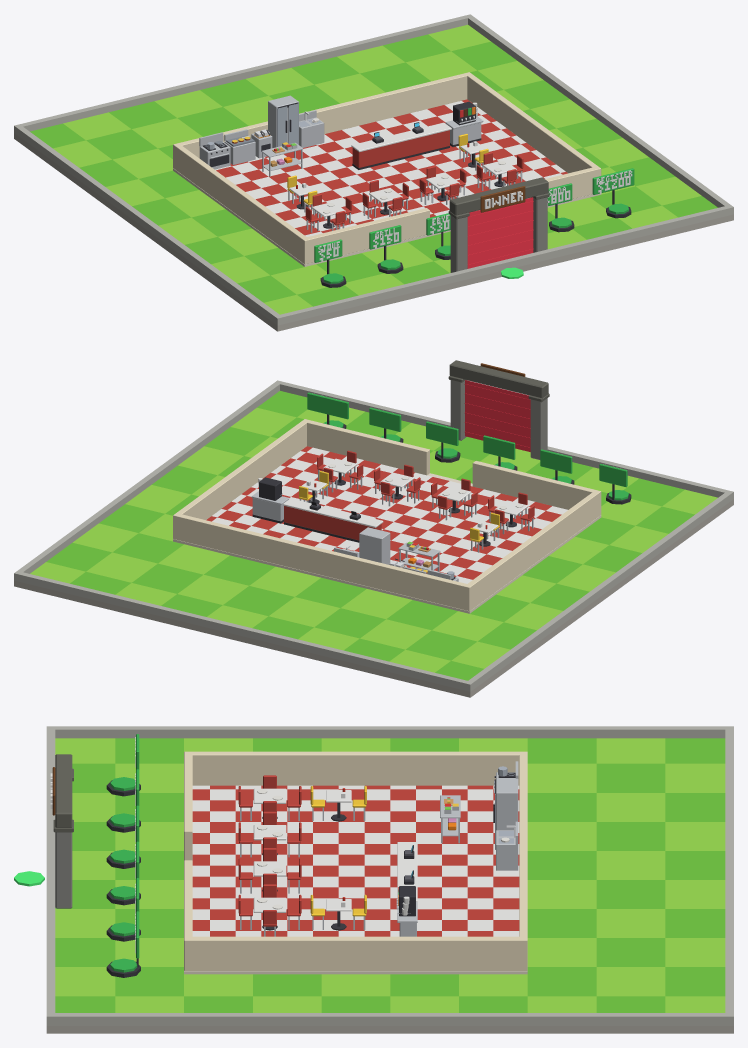
The model's file is RestaurantTycoonPlot.fbx.
The picture shows the model from 3 angles, top to bottom: view 1: azimuth 30°, elevation 25°; view 2: azimuth 150°, elevation 25°; view 3: azimuth 270°, elevation 25°; orthographic projection. The views are drawn at different scales.
Parts seen in each view (by area): view 1: RestaurantTycoonPlot, RestaurantTycoonPlot_Dining, RestaurantTycoonPlot_Kitchen, RestaurantTycoonPlot_Counter, RestaurantTycoonPlot_Laser, RestaurantTycoonPlot_Button6, RestaurantTycoonPlot_Button, RestaurantTycoonPlot_Button2, RestaurantTycoonPlot_Button1, RestaurantTycoonPlot_Button5, RestaurantTycoonPlot_Button3; view 2: RestaurantTycoonPlot, RestaurantTycoonPlot_Dining, RestaurantTycoonPlot_Counter, RestaurantTycoonPlot_Laser, RestaurantTycoonPlot_Kitchen, RestaurantTycoonPlot_Button6, RestaurantTycoonPlot_Button4, RestaurantTycoonPlot_Button, RestaurantTycoonPlot_Button1, RestaurantTycoonPlot_Button3, RestaurantTycoonPlot_Button5, RestaurantTycoonPlot_Button2; view 3: RestaurantTycoonPlot, RestaurantTycoonPlot_Dining, RestaurantTycoonPlot_Kitchen, RestaurantTycoonPlot_Counter, RestaurantTycoonPlot_Button.
Boxes of the visible parts, x1,y1,x2,y2 form: RestaurantTycoonPlot: [14, 14, 733, 331]; RestaurantTycoonPlot_Dining: [287, 134, 523, 232]; RestaurantTycoonPlot_Kitchen: [199, 95, 324, 176]; RestaurantTycoonPlot_Counter: [351, 101, 483, 169]; RestaurantTycoonPlot_Laser: [467, 197, 533, 268]; RestaurantTycoonPlot_Button6: [592, 168, 634, 218]; RestaurantTycoonPlot_Button: [323, 203, 628, 283]; RestaurantTycoonPlot_Button2: [369, 225, 403, 273]; RestaurantTycoonPlot_Button1: [314, 239, 346, 287]; RestaurantTycoonPlot_Button5: [547, 183, 574, 232]; RestaurantTycoonPlot_Button3: [426, 213, 450, 259]; RestaurantTycoonPlot: [14, 360, 733, 697]; RestaurantTycoonPlot_Dining: [299, 450, 534, 552]; RestaurantTycoonPlot_Counter: [251, 477, 383, 542]; RestaurantTycoonPlot_Laser: [464, 380, 530, 451]; RestaurantTycoonPlot_Kitchen: [334, 527, 458, 581]; RestaurantTycoonPlot_Button6: [307, 392, 348, 428]; RestaurantTycoonPlot_Button4: [426, 421, 460, 462]; RestaurantTycoonPlot_Button: [324, 420, 628, 500]; RestaurantTycoonPlot_Button1: [599, 464, 631, 504]; RestaurantTycoonPlot_Button3: [483, 435, 517, 470]; RestaurantTycoonPlot_Button5: [369, 407, 403, 442]; RestaurantTycoonPlot_Button2: [540, 449, 574, 484]; RestaurantTycoonPlot: [14, 726, 733, 1033]; RestaurantTycoonPlot_Dining: [238, 775, 366, 936]; RestaurantTycoonPlot_Kitchen: [440, 761, 518, 870]; RestaurantTycoonPlot_Counter: [396, 842, 417, 936]; RestaurantTycoonPlot_Button: [110, 777, 137, 972].
Size of the model in its own units: 80 by 13.85 by 83.8.
Materials: 1 (1 with a texture image).
